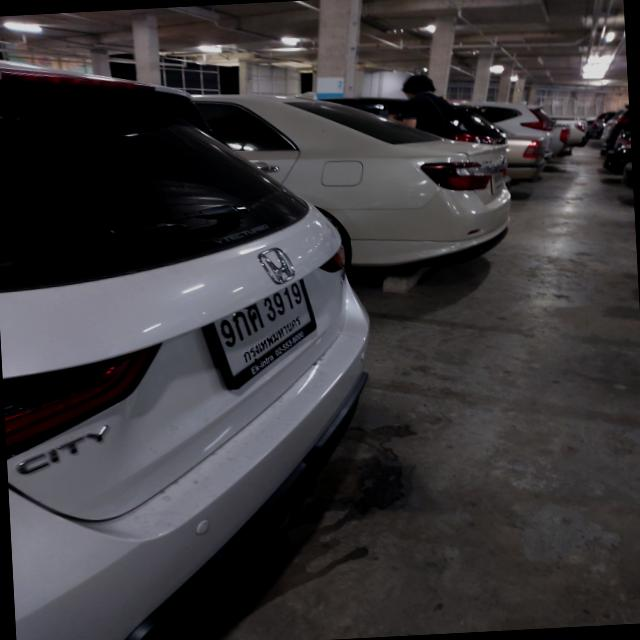license_plate: (213, 279, 314, 378)
